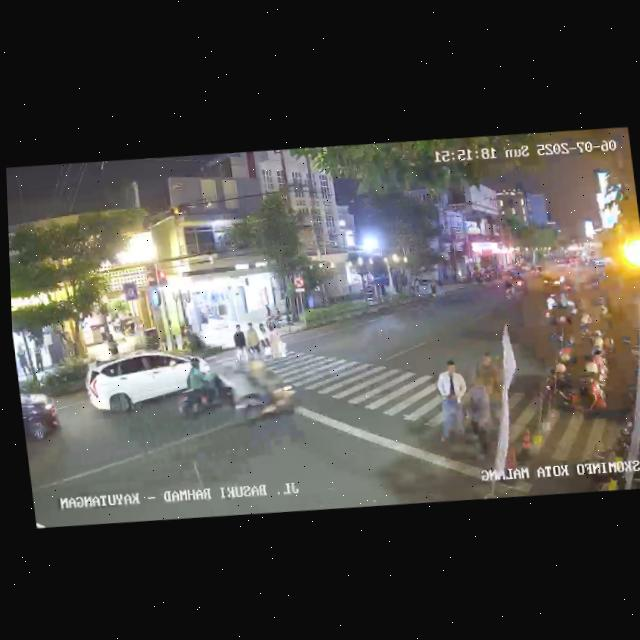car: (78, 344, 209, 424), (19, 385, 63, 446)
motorcycle: (226, 359, 301, 433), (174, 354, 238, 422), (541, 292, 563, 325), (501, 276, 517, 300)
person: (466, 350, 506, 437), (433, 358, 472, 447), (462, 379, 497, 462), (230, 323, 250, 365), (257, 322, 274, 361), (244, 321, 261, 360), (270, 321, 285, 359), (17, 345, 30, 378), (32, 347, 43, 374), (429, 279, 442, 299)
